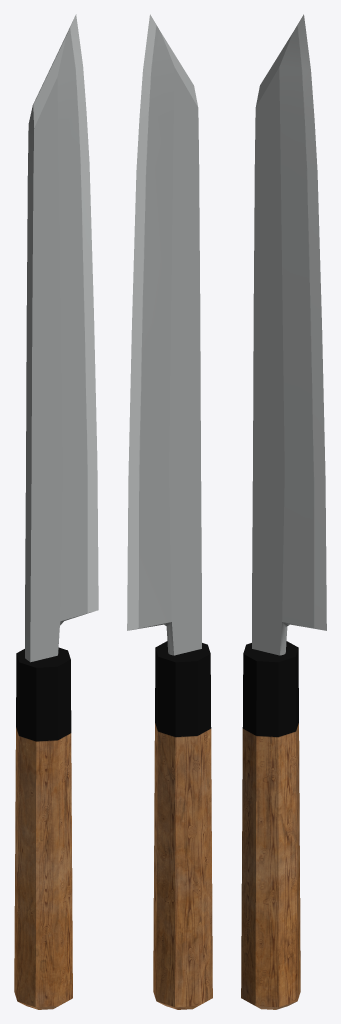
The picture shows the model from 3 angles, left to right: view 1: azimuth 30°, elevation 25°; view 2: azimuth 210°, elevation 25°; view 3: azimuth 330°, elevation 25°; orthographic projection.
Visible parts, largest first — view 1: blade-low, handle-low; view 2: blade-low, handle-low; view 3: blade-low, handle-low.
Part boxes in pixels (left/top/right/bottom): blade-low: left=25, top=14, right=98, bottom=662; handle-low: left=14, top=647, right=72, bottom=1009; blade-low: left=127, top=14, right=201, bottom=655; handle-low: left=153, top=641, right=212, bottom=1009; blade-low: left=252, top=14, right=326, bottom=655; handle-low: left=241, top=641, right=300, bottom=1009.
Bounding box in the file's own units: 0.1337 × 1.54 × 0.0865.
Materials: 1 (1 with a texture image).
